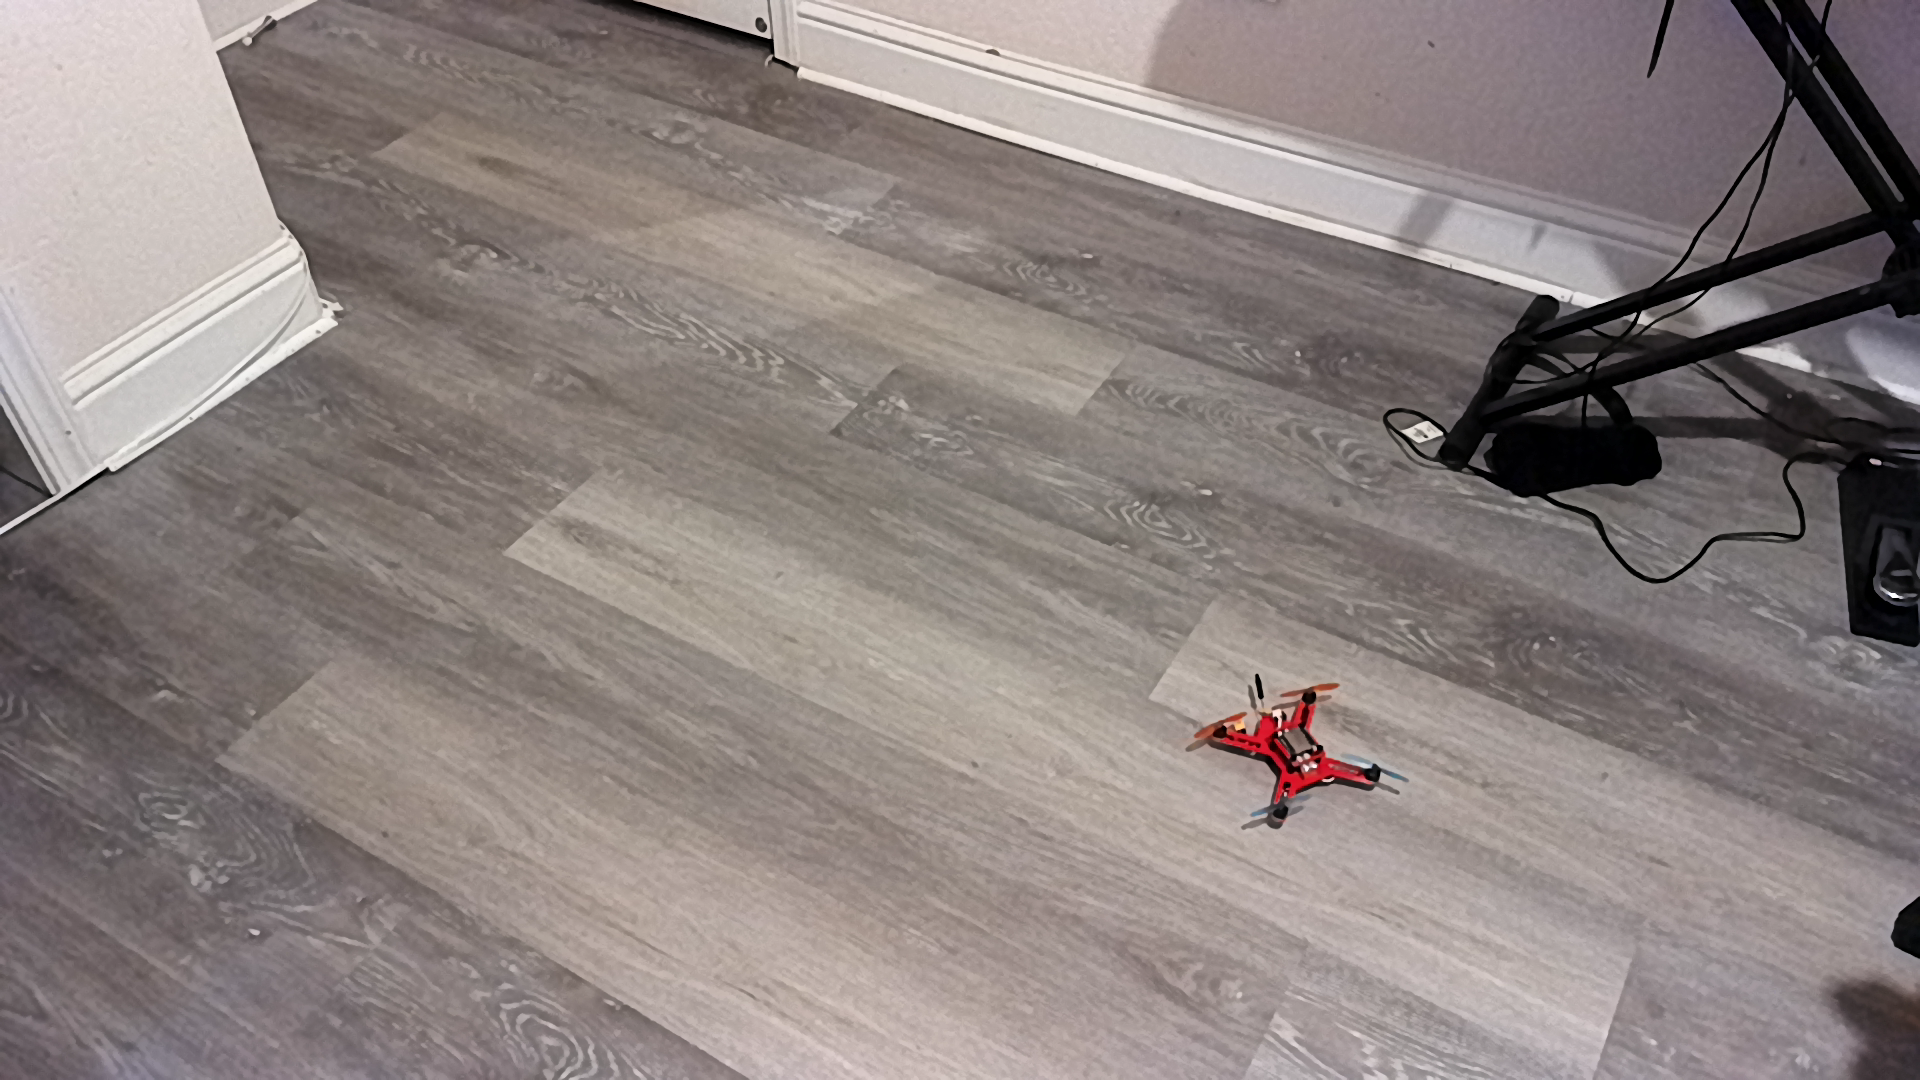drone: (1193, 673, 1418, 836)
